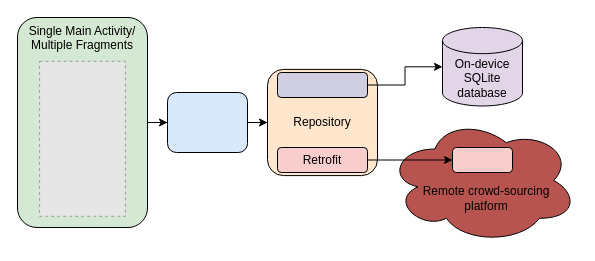
Image size: 595x261. Some labels were removed from this diagram. Grey dashed boxes stand in for pictures. The shapes that lost their labels are listed below. From the top down, each one's centre as x and y in pixels, then its label:
At point 322,85: "Room ORM".
At point 207,122: "ViewModel".
At point 482,159: "REST API".
